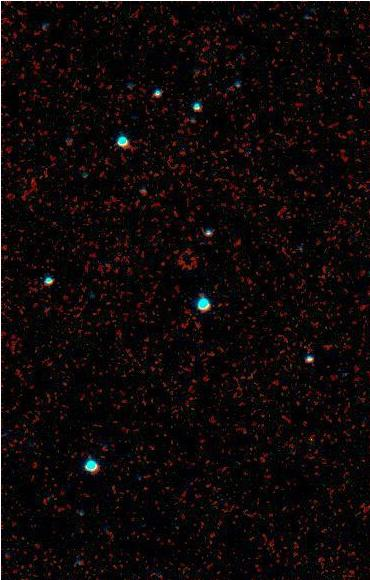star: (173, 237, 203, 267)
